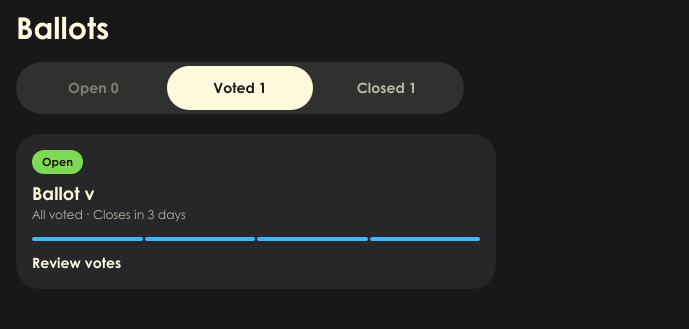
Scenario: BallotsPage › Voted tab: fully voted open ballots only, default when nothing needs voting
expect the heading "Ballot v" is shown: met, box [32, 182, 95, 204]
expect the text "All voted · Closes in 3 days" is shown: met, box [32, 210, 186, 222]
Click the tab "Open 0" at (93, 88), box [20, 66, 167, 110]
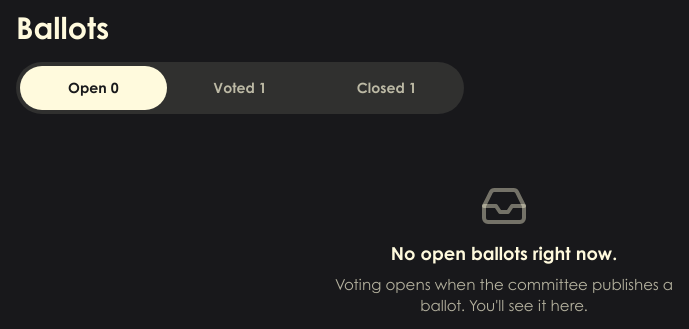
expect the heading "No open ballots right now." is shown: met, box [391, 242, 617, 264]
